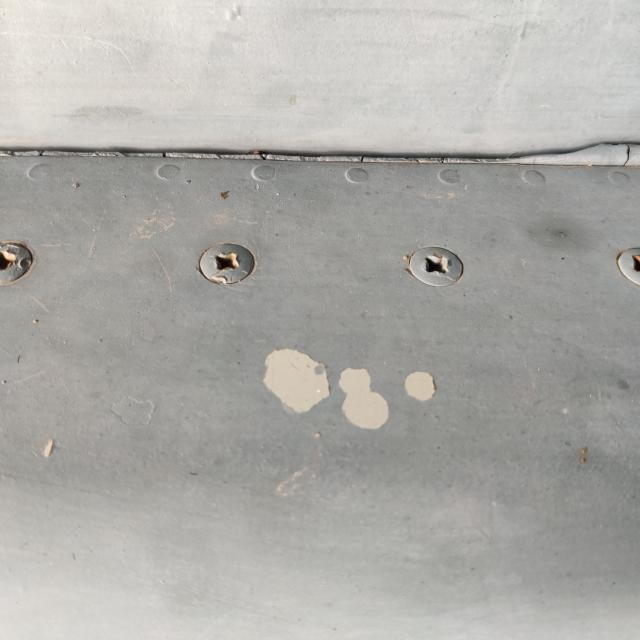paint-off: (241, 318, 463, 444)
